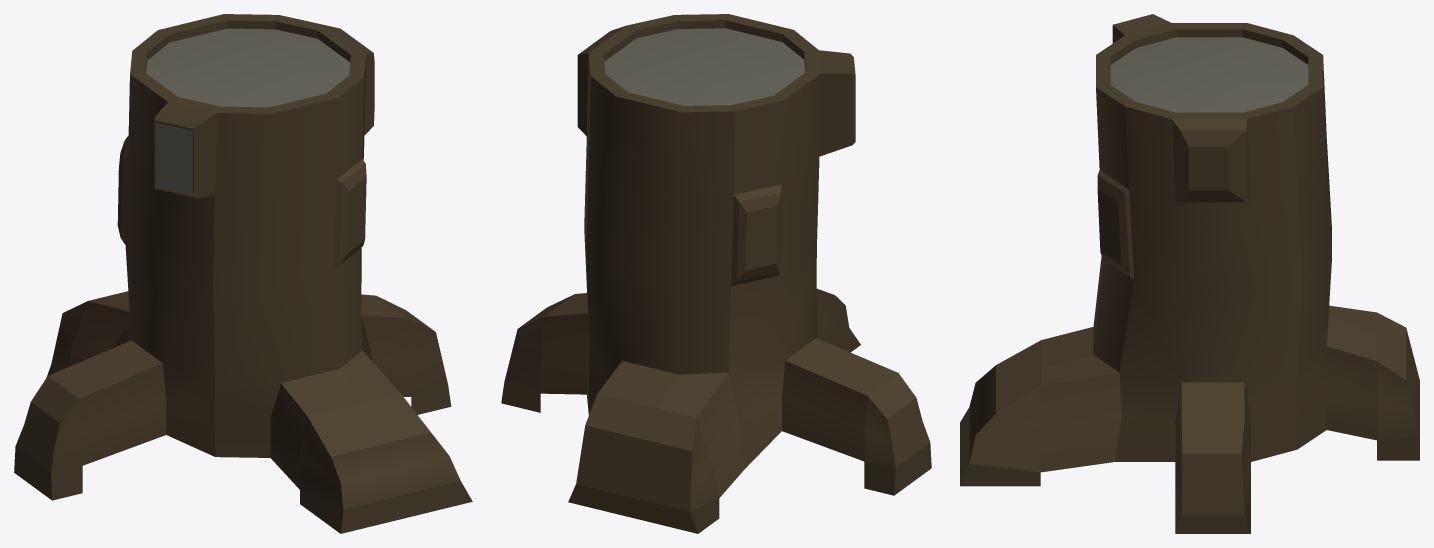
The model's file is Stump_Fruit_tree.fbx.
3 renders of one model, left to right at view 1: azimuth 30°, elevation 25°; view 2: azimuth 150°, elevation 25°; view 3: azimuth 270°, elevation 25°, orthographic.
Parts seen in each view (by area): view 1: Main, Top, Branchhole; view 2: Main, Top; view 3: Main, Top.
Part boxes in pixels (x1=…): Main: x1=14, y1=14, x2=472, y2=533; Top: x1=146, y1=28, x2=350, y2=107; Branchhole: x1=156, y1=122, x2=193, y2=193; Main: x1=501, y1=14, x2=931, y2=533; Top: x1=604, y1=28, x2=805, y2=105; Main: x1=960, y1=14, x2=1419, y2=533; Top: x1=1110, y1=37, x2=1308, y2=112.
Size of the model in its own units: 143 by 129 by 144.
